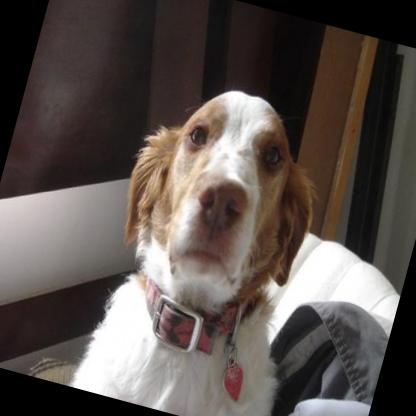Brittany_spaniel: (64, 61, 353, 416)
